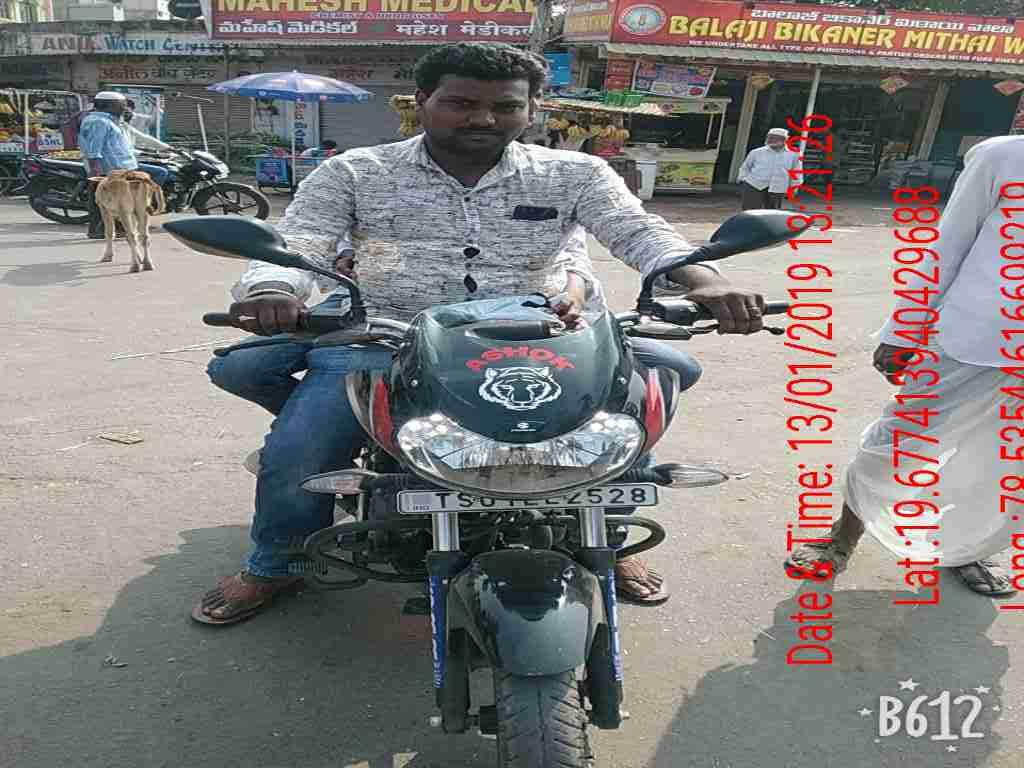plate: (390, 479, 661, 515)
